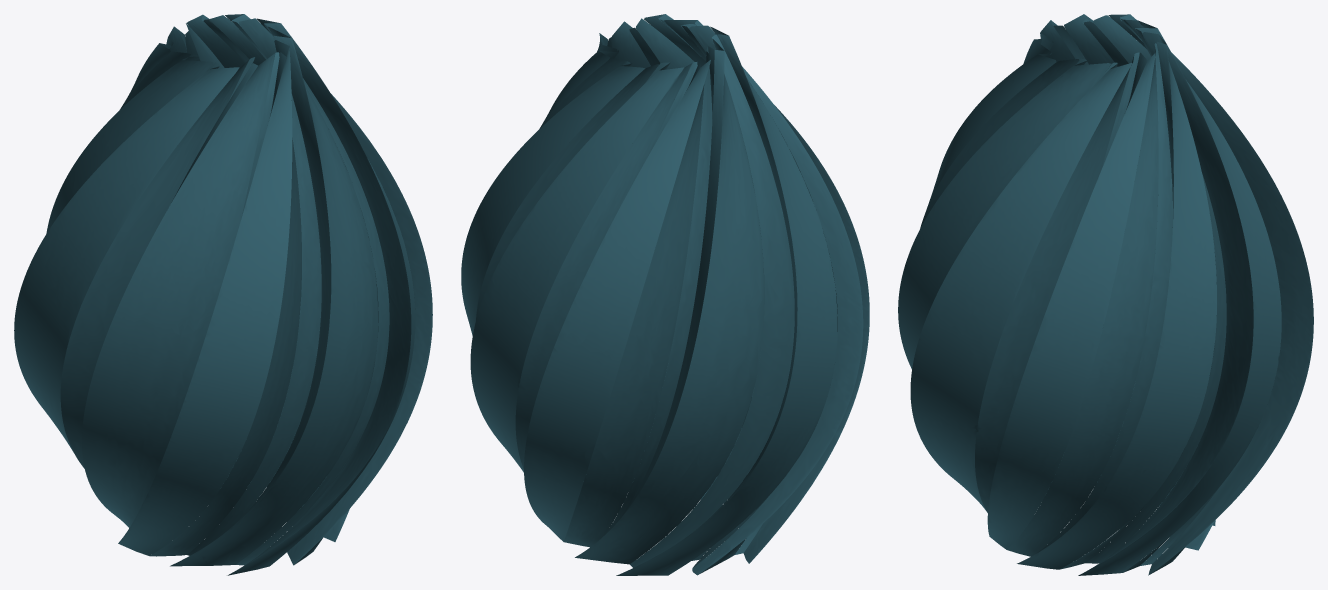
File: blade-solo-346371.glb
3 renders of one model, left to right at view 1: azimuth 30°, elevation 25°; view 2: azimuth 150°, elevation 25°; view 3: azimuth 270°, elevation 25°, orthographic.
Visible parts, largest first — view 1: Blade; view 2: Blade; view 3: Blade.
Part boxes in pixels (box(x1,y1,x2,y2)): Blade: box(14, 14, 432, 575); Blade: box(461, 14, 869, 575); Blade: box(898, 14, 1313, 575).
Bounding box in the file's own units: 0.2775 × 0.37 × 0.2841.
